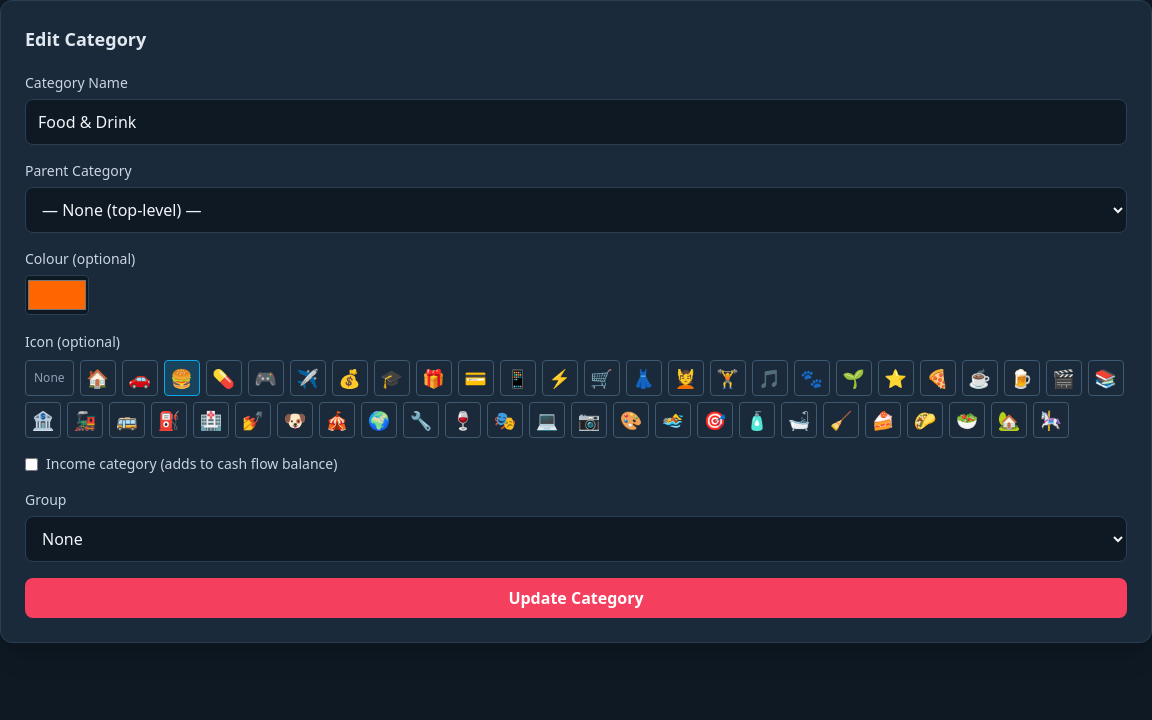
AddCategoryForm — edit mode › shows an error message when the update fails
Click the button "Update Category". click: click(576, 598)
box: [25,578,1127,618]
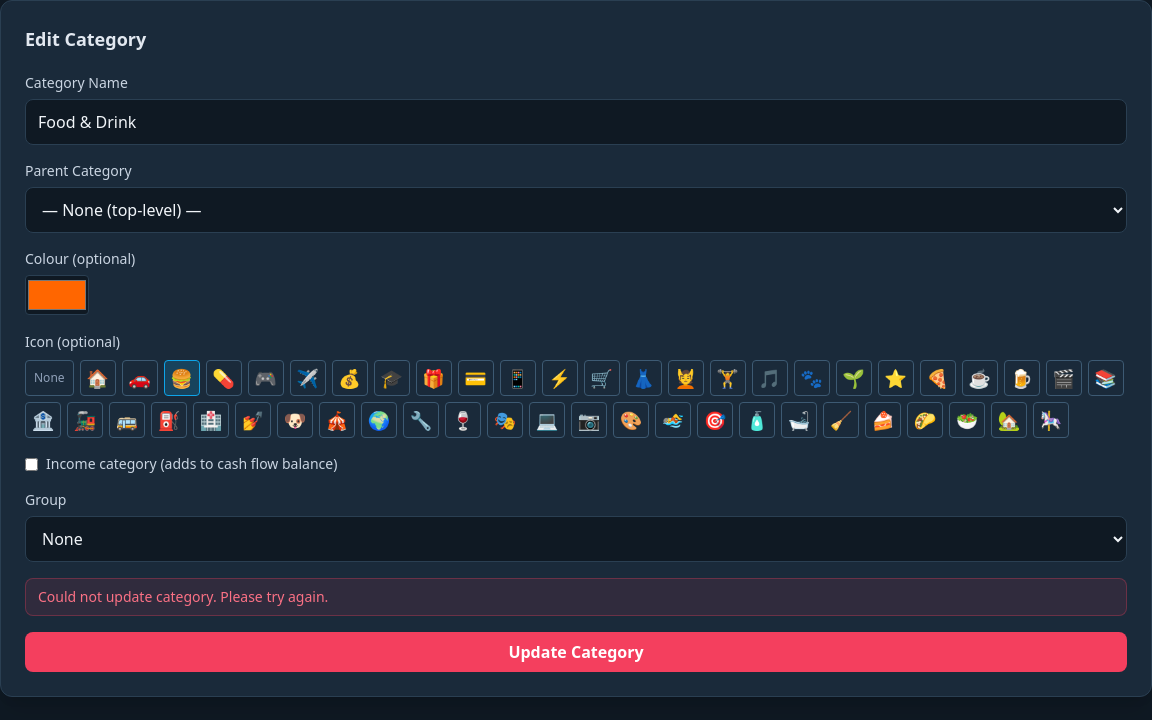
Now the text "Could not update category. Please try again." is shown, box [38,587,328,606]
